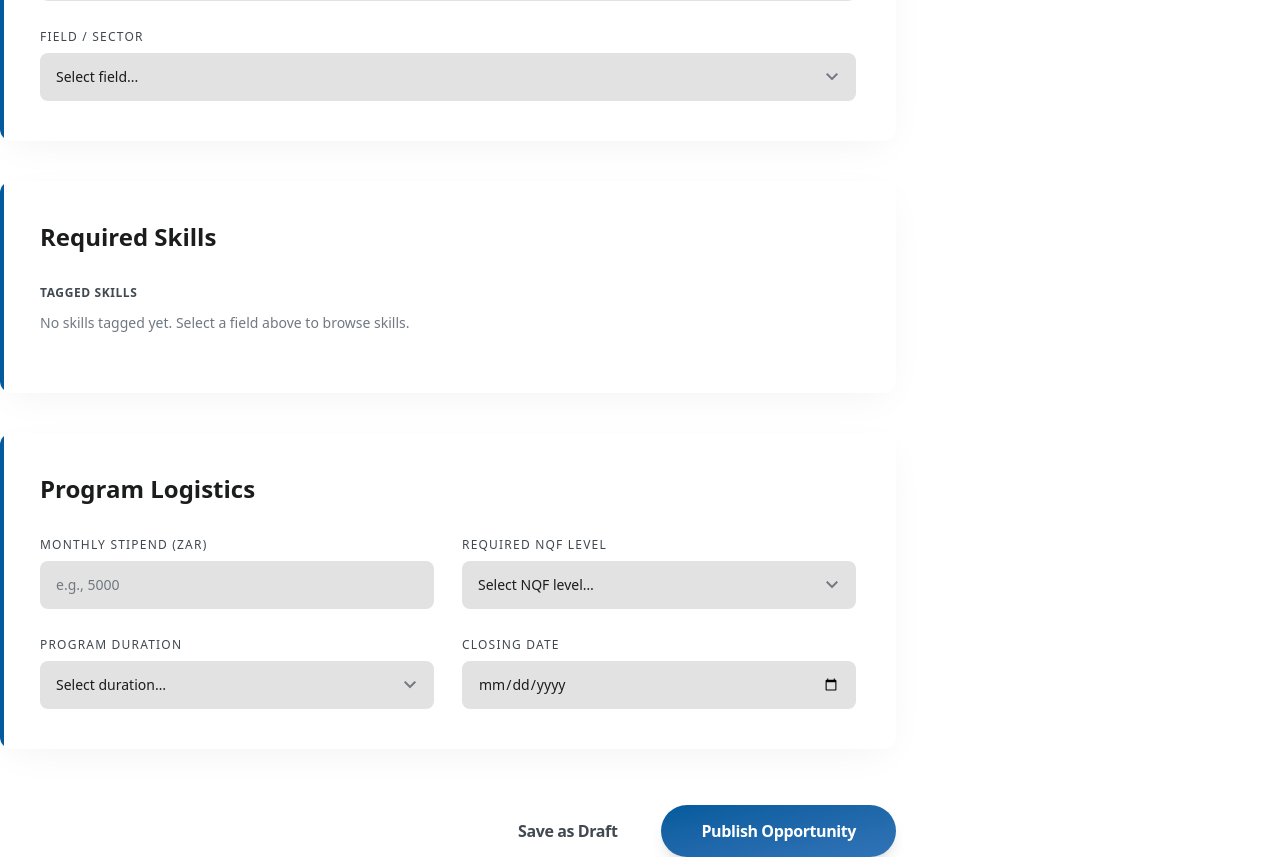
Test: OpportunityForm › shows draft saved message when saving draft
(page scrolled)
Click the button "Save as Draft" at (568, 831), box [494,807,642,855]
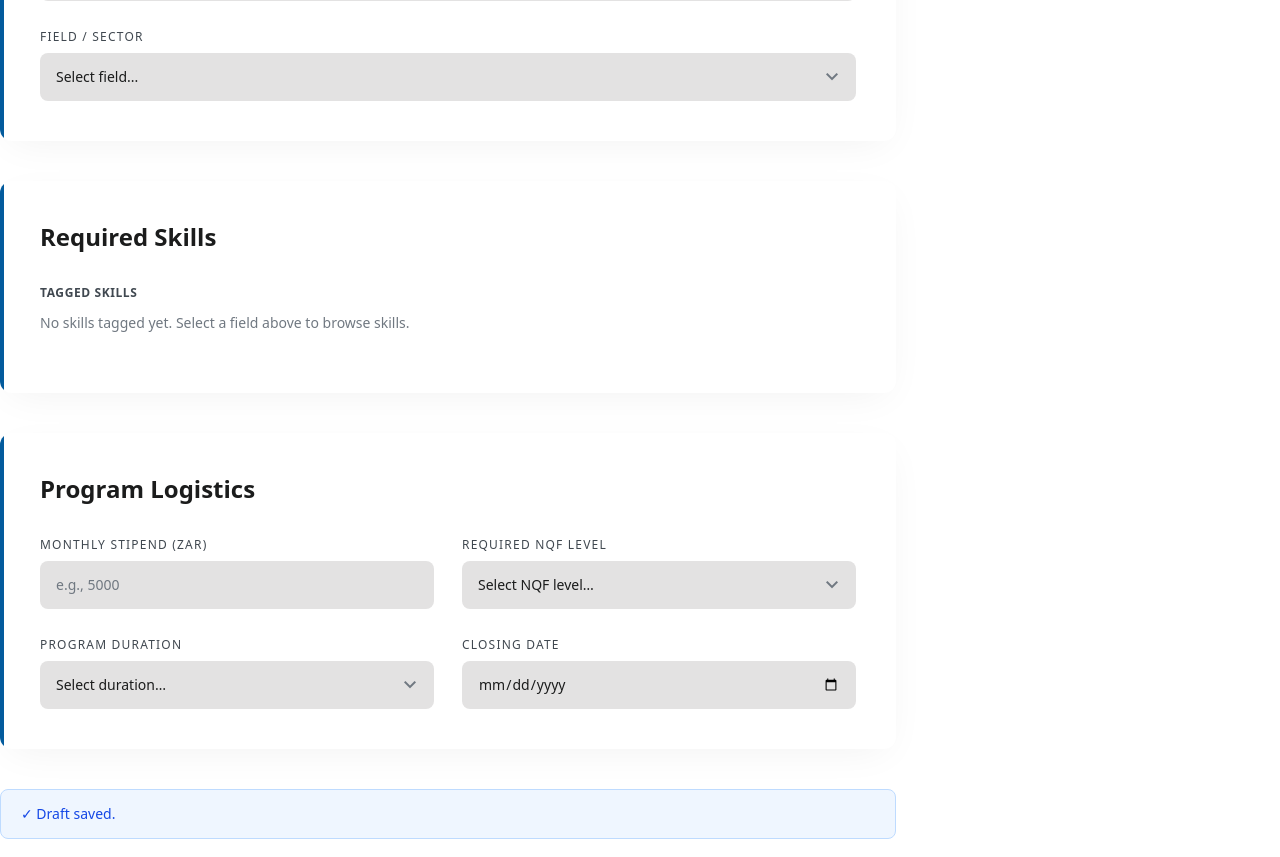
Expected: the text "✓ Draft saved." is shown, [0,789,896,839]
